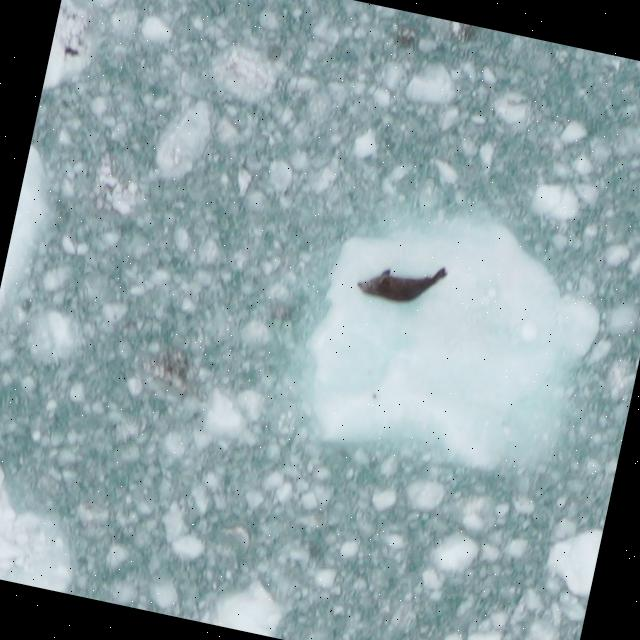seal: (351, 248, 453, 316)
